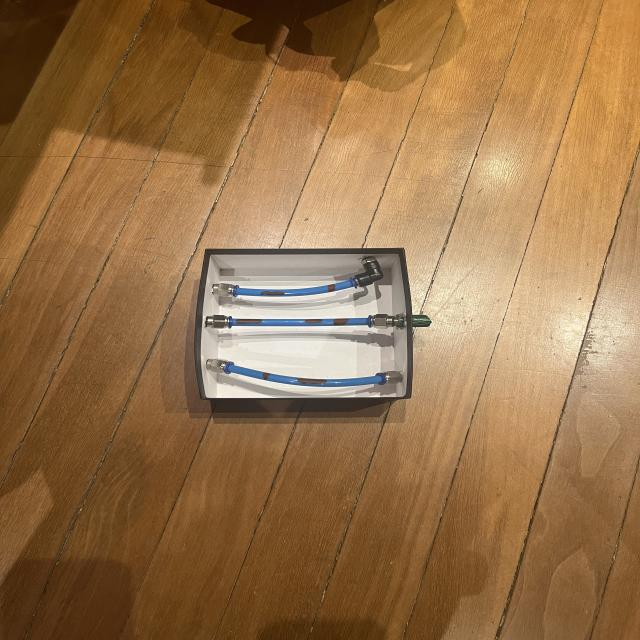hose_damage: (296, 377, 328, 385), (235, 318, 262, 325), (259, 290, 284, 296), (333, 317, 349, 326), (303, 318, 323, 325), (326, 284, 336, 292), (262, 372, 270, 381)
